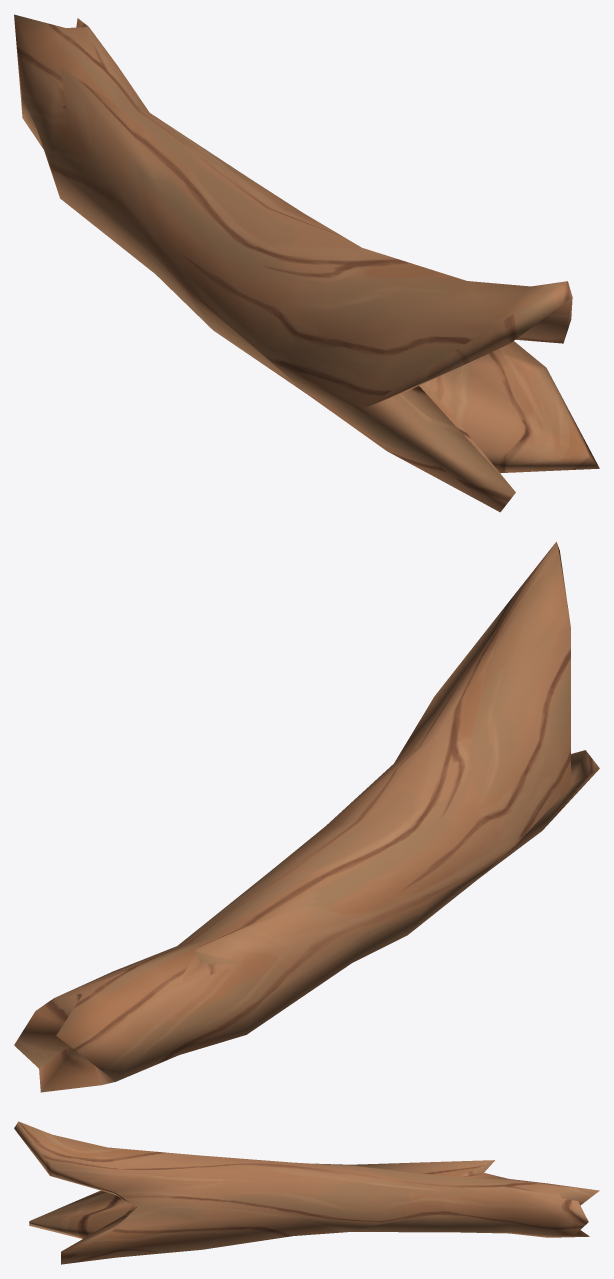
File: Fbx_DeadTree03.fbx
3 views of the same model, one above another, from view 1: azimuth 30°, elevation 25°; view 2: azimuth 150°, elevation 25°; view 3: azimuth 270°, elevation 25° (orthographic). The views are drawn at different scales.
Visible parts, largest first — view 1: DeadTree03; view 2: DeadTree03; view 3: DeadTree03.
Part boxes in pixels (x1=…): DeadTree03: x1=14, y1=14, x2=599, y2=512; DeadTree03: x1=14, y1=541, x2=599, y2=1092; DeadTree03: x1=14, y1=1121, x2=599, y2=1264.
Size of the model in its own units: 129 by 155 by 618.
1 material, 1 textured.
